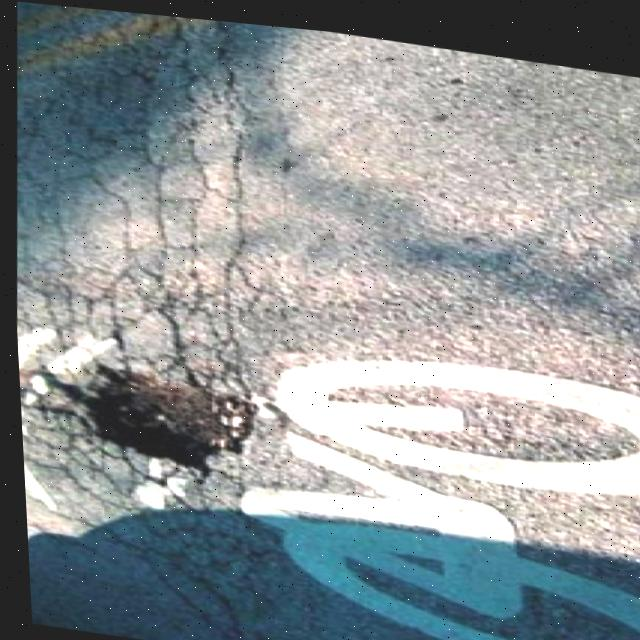Pothole: (14, 339, 280, 481)
